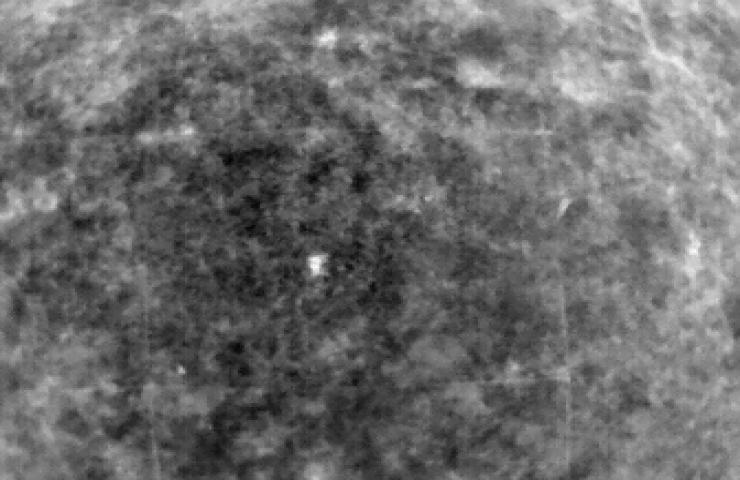landmines: (306, 253, 329, 279)
